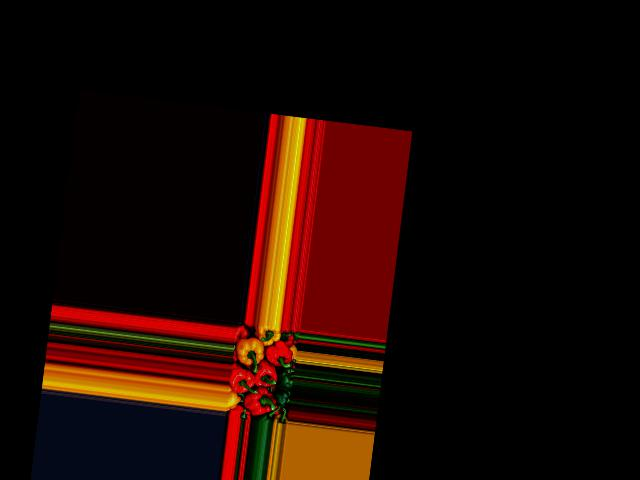bell_pepper: (225, 391, 240, 409)
